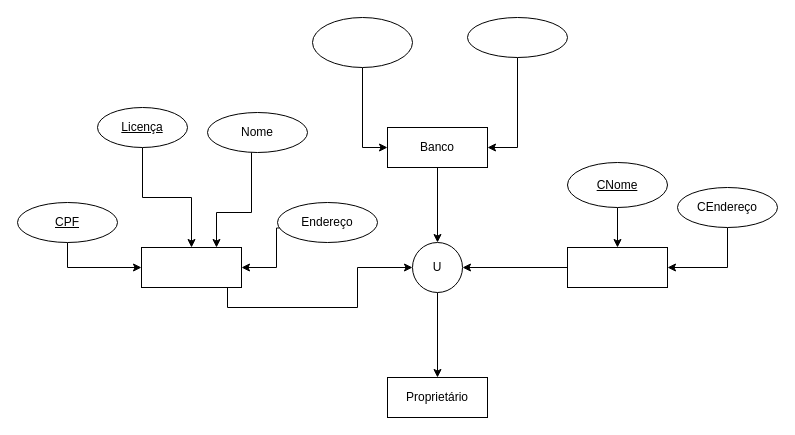
This 795x435 diagram has some shape labels left out. Here are the shapes that lost their labels. From the top down, the centre of each, then its label:
At [362,42]: "BNome".
At [517,37]: "BEndereço".
At [191,267]: "Pessoa".
At [617,267]: "Companhia".
